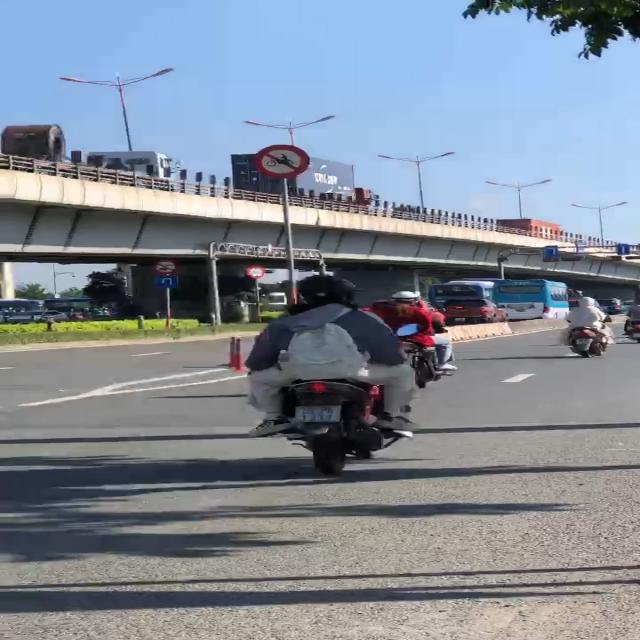Bien bao cam xe may: (249, 142, 301, 181)
